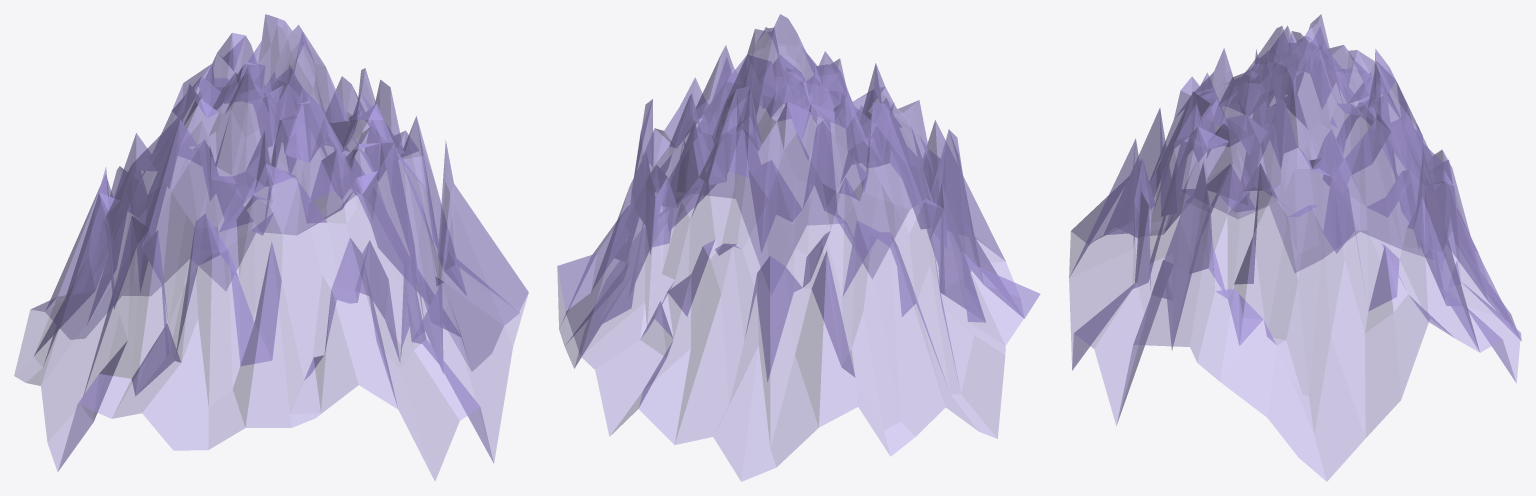
The model's file is Pillar_base.glb.
3 renders of one model, left to right at view 1: azimuth 30°, elevation 25°; view 2: azimuth 150°, elevation 25°; view 3: azimuth 270°, elevation 25°, orthographic. The views are drawn at different scales.
Visible parts, largest first — view 1: Pillar_base; view 2: Pillar_base; view 3: Pillar_base.
Boxes of the visible parts, <box> form: Pillar_base: <box>14,14,528,480</box>; Pillar_base: <box>557,14,1040,481</box>; Pillar_base: <box>1069,14,1521,481</box>.
Size of what is drawn, in the model's own units: 44.25 by 39.86 by 43.65.
